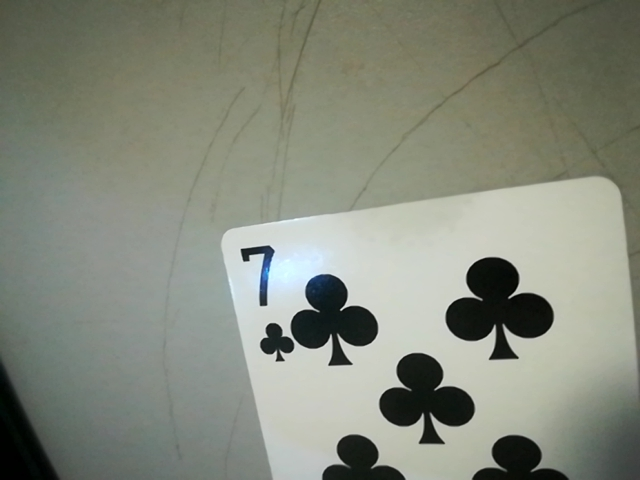mh 7: (225, 232, 288, 367)
